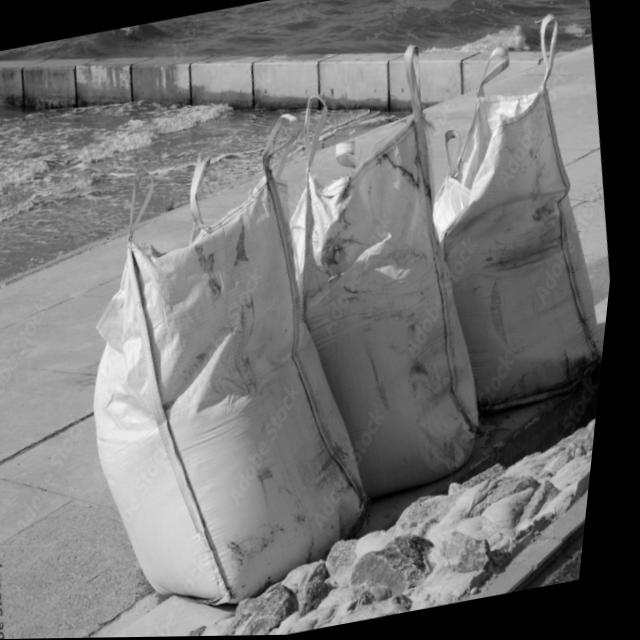sack: (38, 102, 423, 627), (242, 38, 529, 510), (387, 9, 639, 421)
